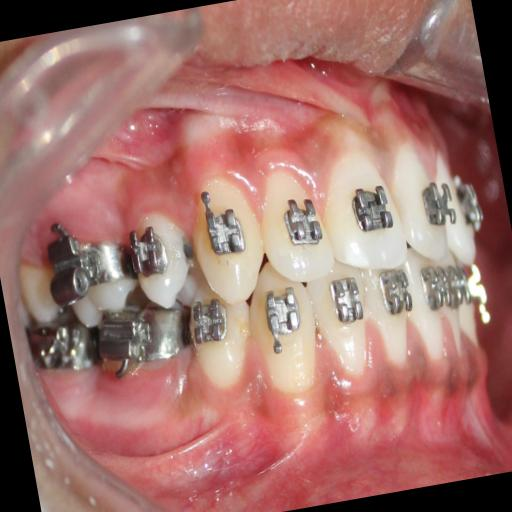correct_brace: (124, 204, 194, 318), (344, 174, 400, 252), (197, 200, 248, 262), (275, 189, 324, 251)
incorrect_brace: (250, 165, 332, 286), (129, 228, 170, 282)
